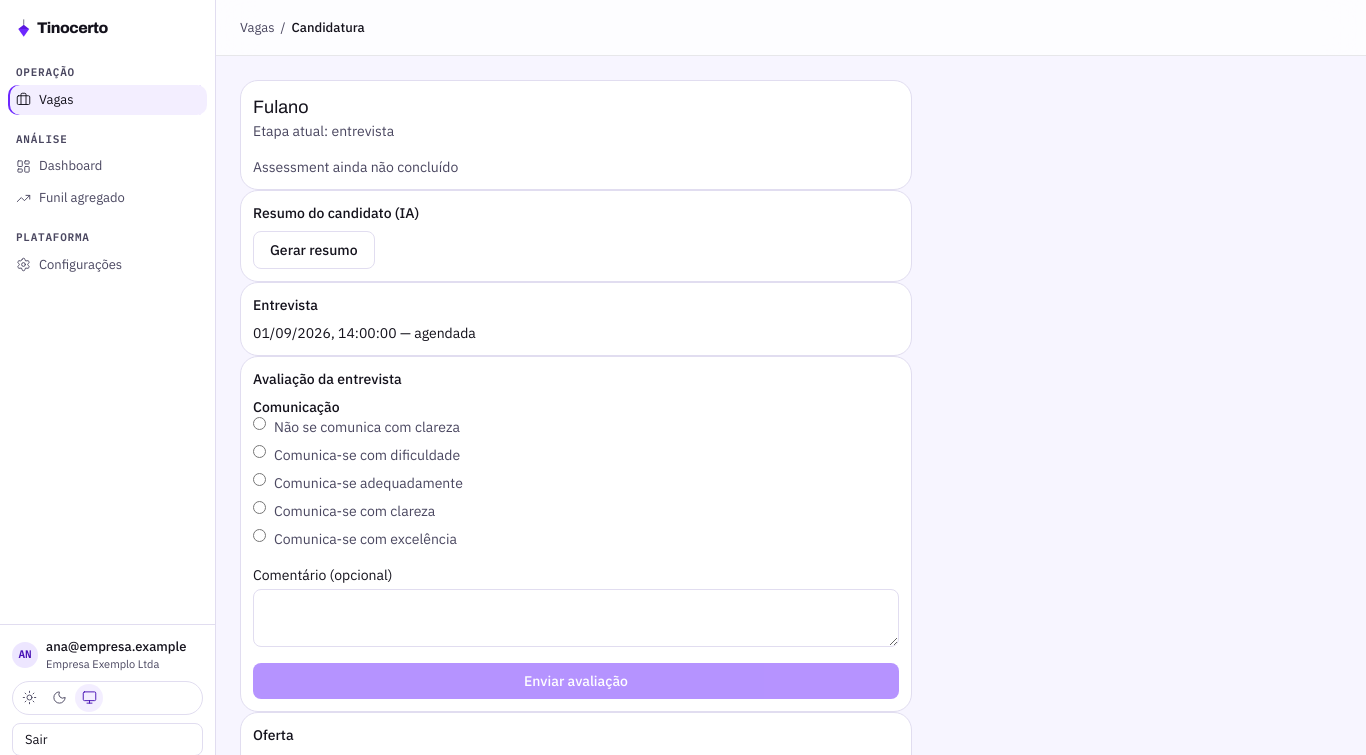
Test: CandidaturaPage › mostra mensagem clara quando o backend recusa por eu nao ser avaliador desta entrevista
Expected: the text "Comunica-se com excelência" is shown, left=253, top=529, right=457, bottom=548
Step 1. Click the radio button labelled "Comunica-se com excelência" → (260, 536), box left=253, top=529, right=266, bottom=542
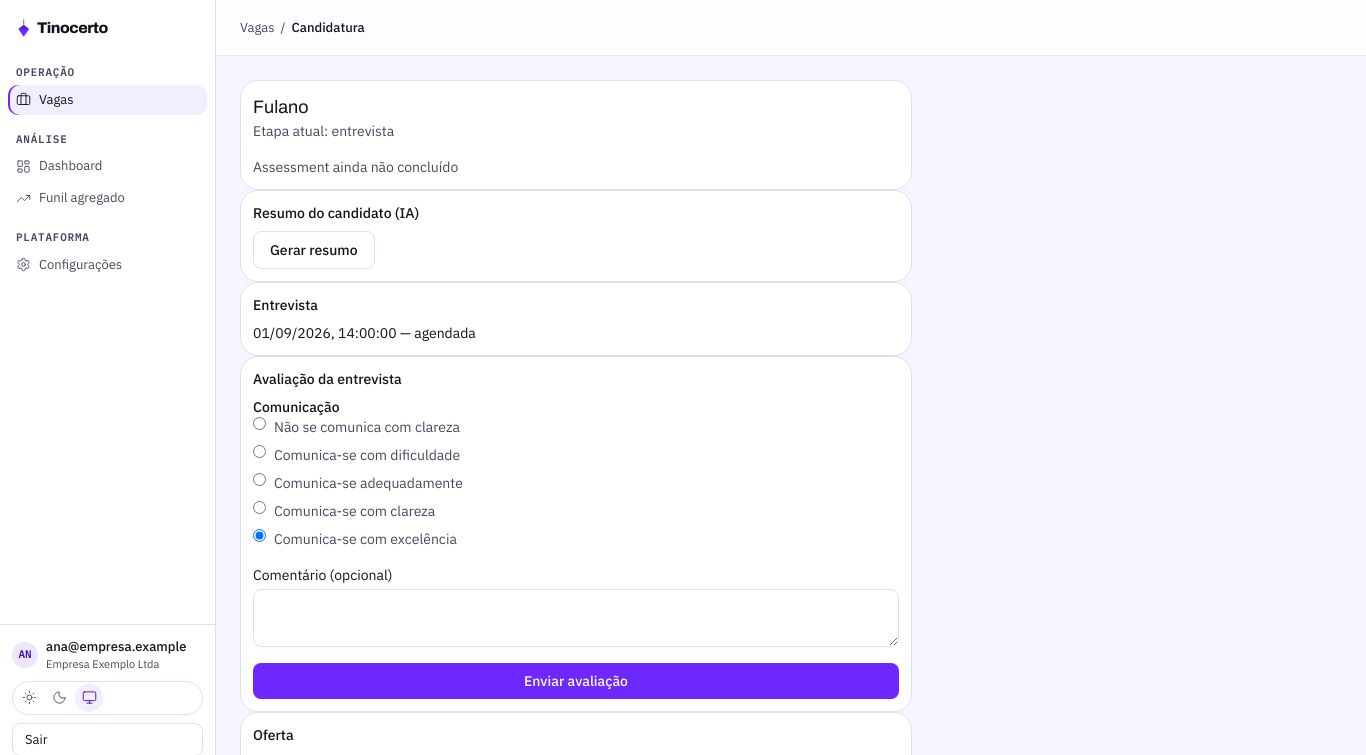
Step 2. Click the button "Enviar avaliação" → (576, 681), box left=253, top=663, right=899, bottom=699
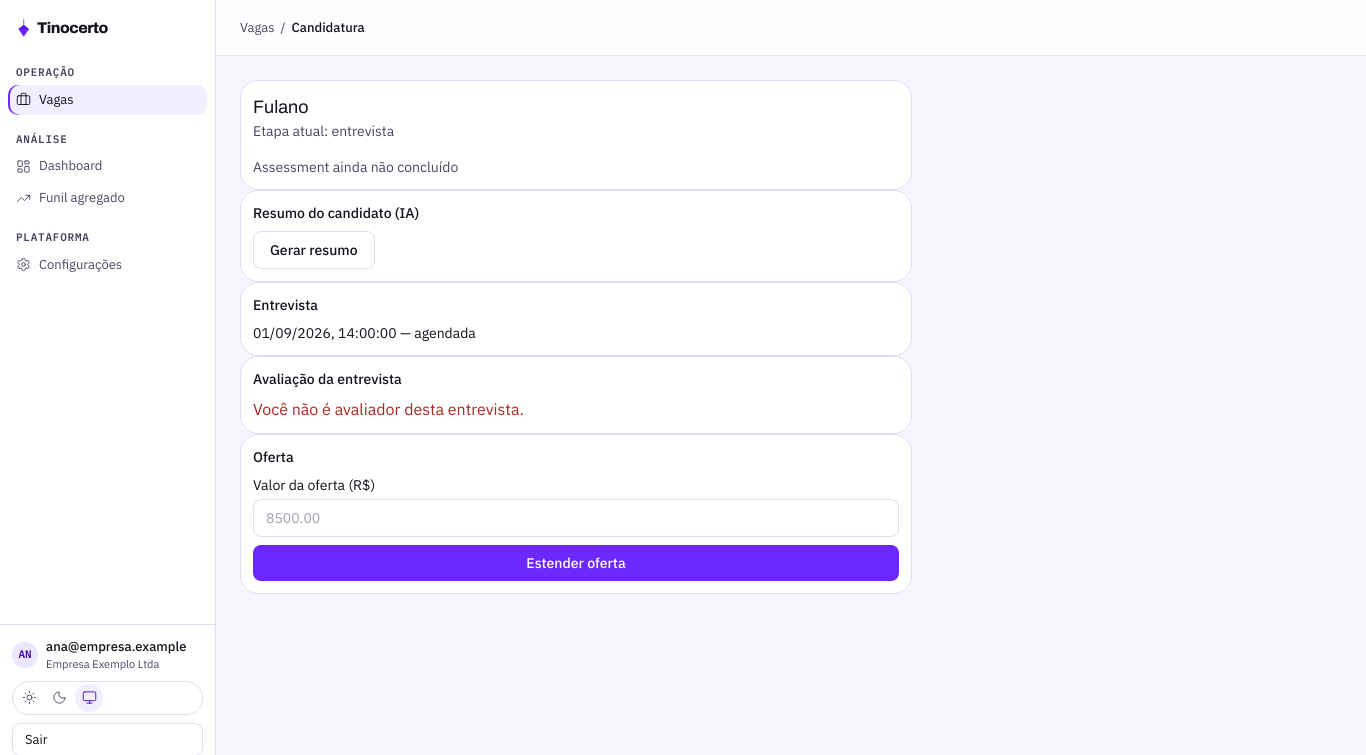
Now the text "Você não é avaliador desta entrevista." is shown, box left=253, top=399, right=524, bottom=419
Now the button "Enviar avaliação" is gone
